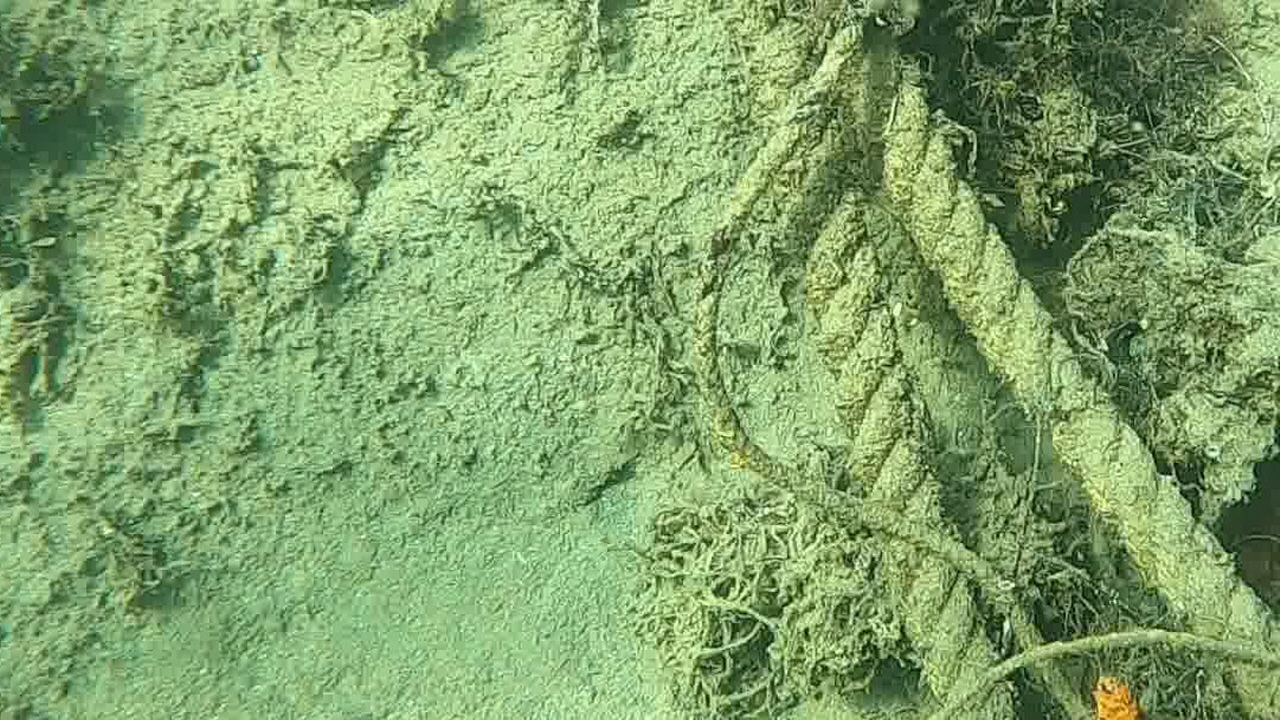bundle of ropes: (687, 0, 1280, 720)
rope: (689, 0, 1098, 720), (923, 628, 1280, 720)
